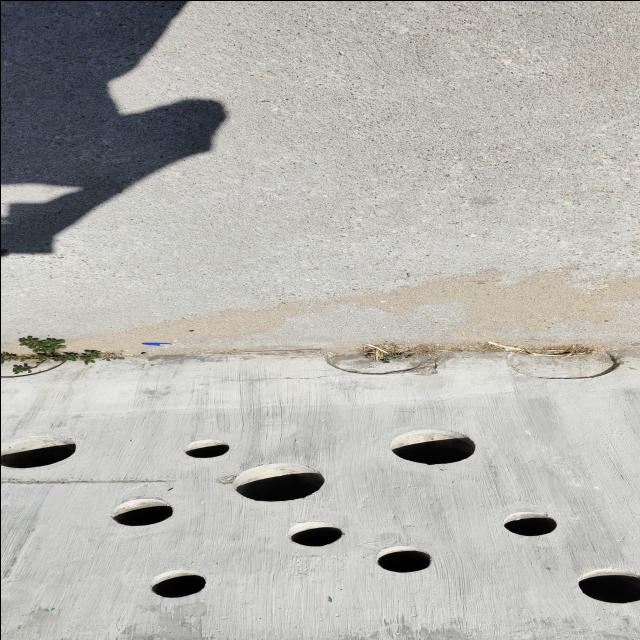Other plastic bottle: (141, 341, 171, 345)
